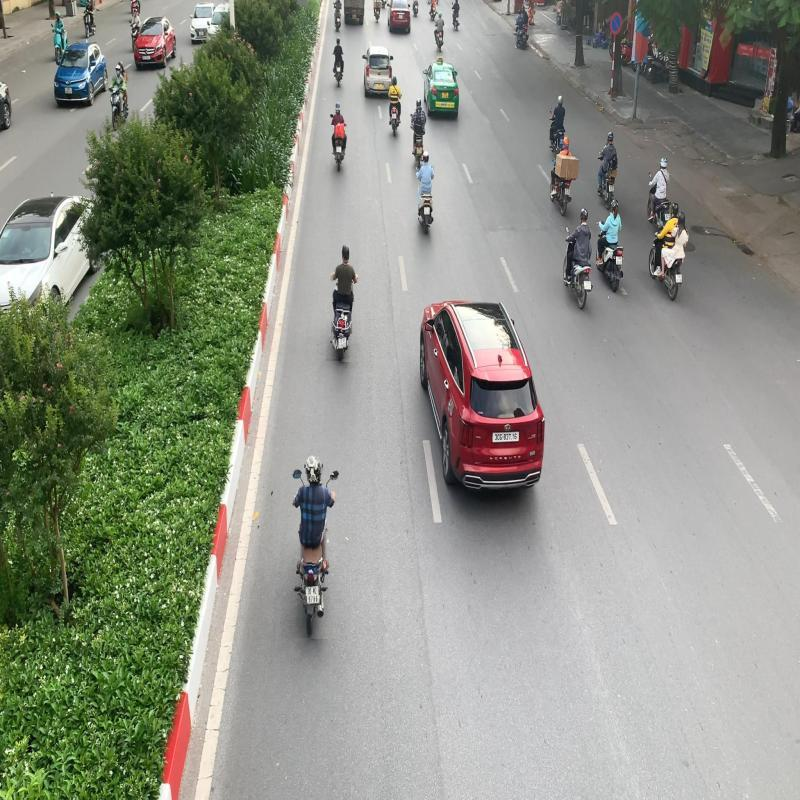helmet: (302, 454, 324, 486), (337, 244, 349, 262)
licenseplate: (304, 585, 322, 605), (337, 336, 347, 349)
motorcyclist: (282, 453, 343, 640), (326, 242, 358, 362)
